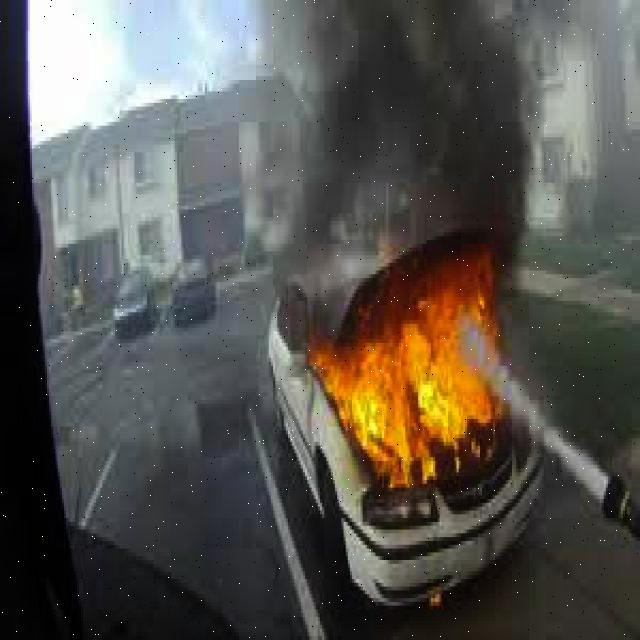fire: (309, 272, 515, 477)
smoke: (289, 3, 538, 259)
